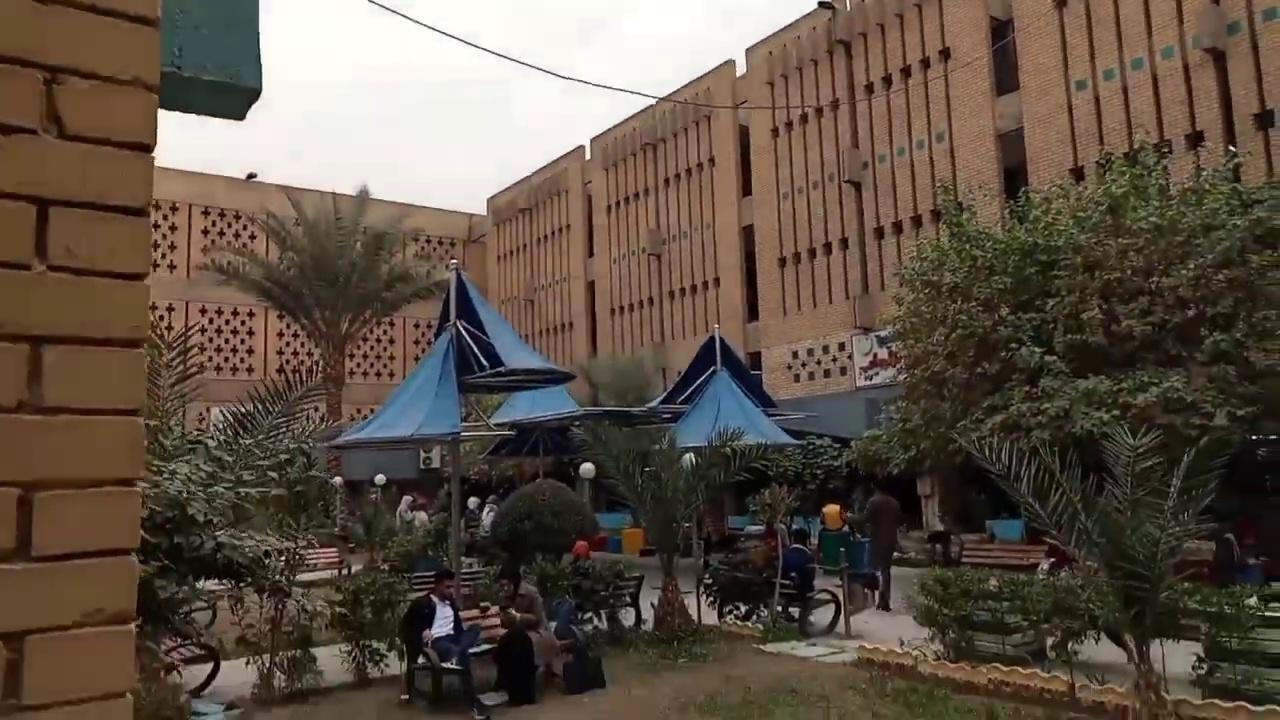person: (397, 568, 491, 719), (860, 477, 903, 612), (491, 608, 537, 707), (776, 526, 816, 625)
tree: (849, 132, 1278, 716), (940, 419, 1272, 718), (137, 301, 345, 701), (195, 181, 451, 433), (569, 417, 772, 647), (322, 493, 453, 685), (485, 476, 599, 590), (322, 561, 413, 685), (768, 433, 855, 520), (480, 420, 586, 481), (346, 492, 398, 568)
